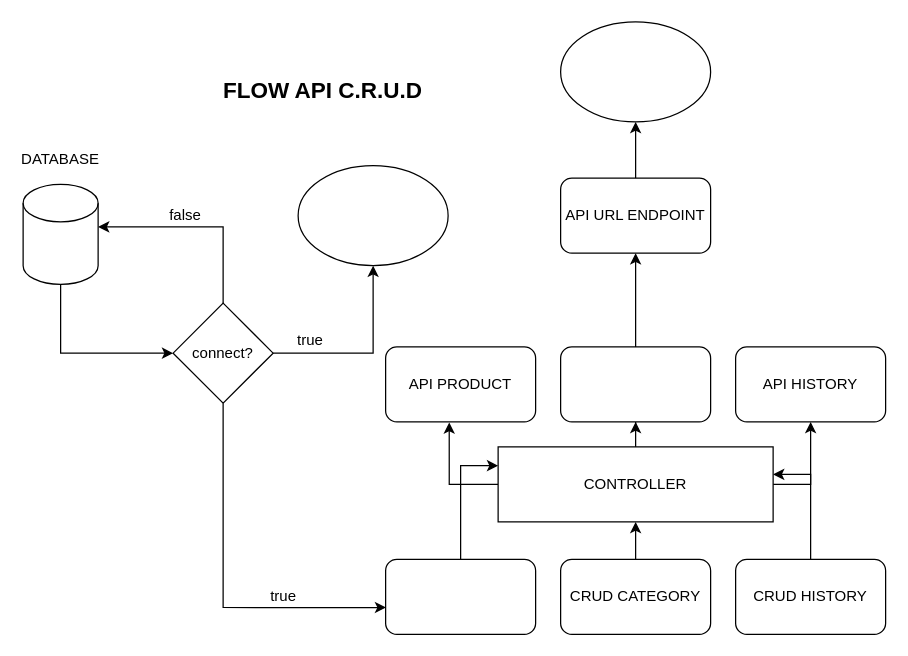
Image size: 908x656. Some labels were removed from this diagram. The centre of each missing label's shape, as x and y in pixels:
"API CATEGORY" belongs at (x=635, y=384).
"CRUD PRODUCT" belongs at (x=460, y=596).
"OUTPUT" belongs at (x=635, y=71).
"START" belongs at (x=372, y=215).
